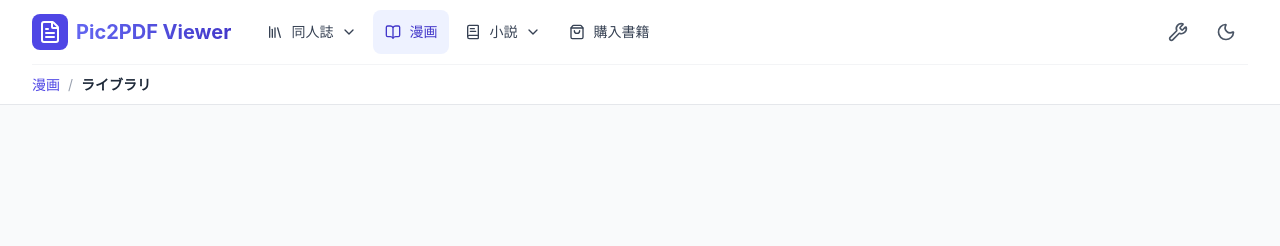
Layout › PCでは主要項目を表示し、カテゴリメニューから同人誌ライブラリへ遷移できる
Click the button with aria-label "同人誌メニュー".
click(312, 32)  # box [255, 10, 369, 54]
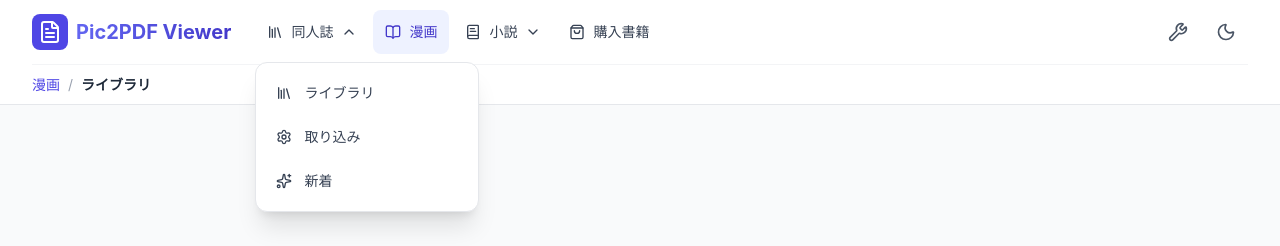
Expected: the button with aria-label "同人誌メニュー" is expanded, [255, 10, 369, 54]
